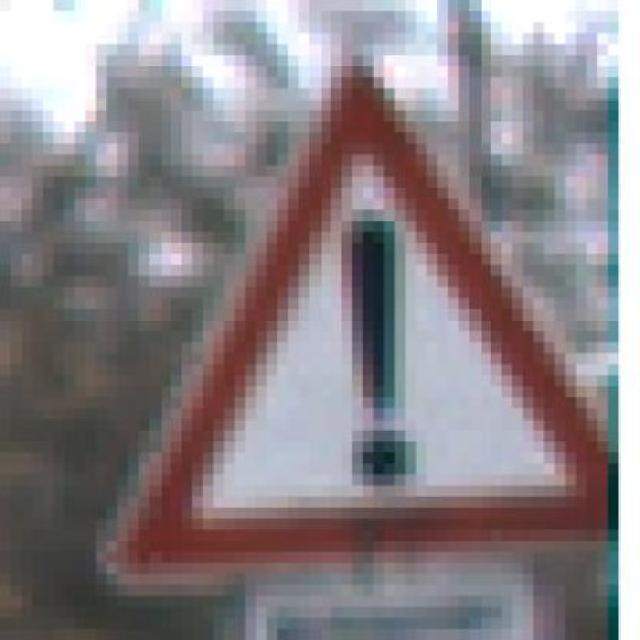Attention Please-: (78, 50, 633, 568)
